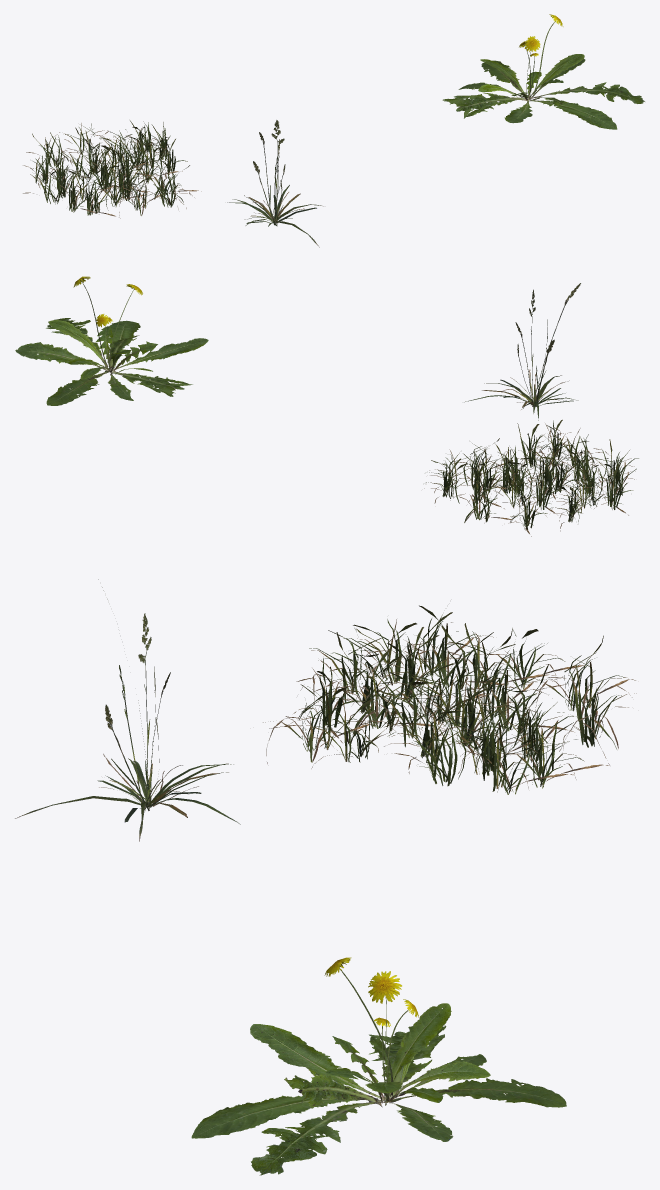
The model's file is mato_pbr.glb.
The picture shows the model from 3 angles, top to bottom: view 1: azimuth 30°, elevation 25°; view 2: azimuth 150°, elevation 25°; view 3: azimuth 270°, elevation 25°; orthographic projection. The views are drawn at different scales.
Visible parts, largest first — view 1: moita_baixa, erva_flor, tufo_alto; view 2: moita_baixa, erva_flor, tufo_alto; view 3: moita_baixa, erva_flor, tufo_alto.
Part boxes in pixels (x1,y1,x2,y2): moita_baixa: (23, 120, 201, 218); erva_flor: (442, 14, 644, 129); tufo_alto: (227, 120, 323, 247); moita_baixa: (424, 419, 638, 536); erva_flor: (15, 276, 208, 405); tufo_alto: (464, 283, 580, 420); moita_baixa: (263, 605, 636, 794); erva_flor: (191, 957, 566, 1175); tufo_alto: (15, 579, 240, 841).
Size of the model in its own units: 2.45 by 0.4601 by 1.23.
3 materials, 3 textured.
